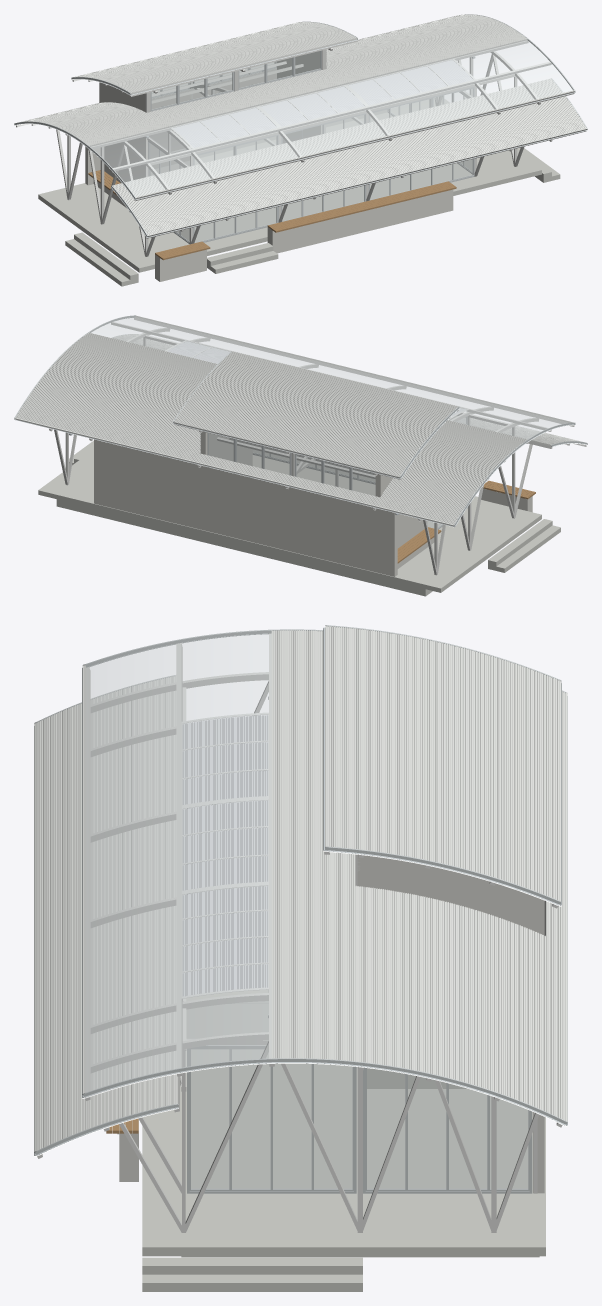
File: solarhouse_R8.glb
The picture shows the model from 3 angles, top to bottom: view 1: azimuth 30°, elevation 25°; view 2: azimuth 150°, elevation 25°; view 3: azimuth 270°, elevation 25°; orthographic projection. The views are drawn at different scales.
Visible parts, largest first — view 1: 主屋盖_连续玻璃整体, 下挑檐_曲面覆层, 主屋盖_顺檩条无缝分带, 平台_14280x6200_顶标高450, 高窗屋盖_连续曲面, 南侧长座凳_实体基座, 高窗西侧实体墙, 檩条002_2, 北后墙_高窗下实体, 南侧连续横梁_Z3.55, 南侧短座凳_实体基座, 高窗东侧室内隔墙 (+34 smaller); view 2: 主屋盖_顺檩条无缝分带, 高窗屋盖_连续曲面, 北后墙_高窗下实体, 平台_14280x6200_顶标高450, 主屋盖_连续玻璃整体, 北后墙_东侧会谈区, 平台基础_按DWG剖面, 檩条002_1, 下挑檐_曲面覆层, 高窗东侧室内隔墙, 高窗西侧实体墙, 西入口踏步2_踏步300_踢面150 (+14 smaller); view 3: 主屋盖_连续玻璃整体, 主屋盖_顺檩条无缝分带, 平台_14280x6200_顶标高450, 下挑檐_曲面覆层, 高窗屋盖_连续曲面, 高窗东侧室内隔墙, 东立面_折叠门1_2600x2500_扇2_玻璃, 东立面_折叠门1_2600x2500_扇1_玻璃, 东立面_折叠门1_2600x2500_扇3_玻璃, 东立面_折叠门1_2600x2500_扇4_玻璃, 东立面_折叠门2_2600x2500_扇1_玻璃, 东入口踏步1_踏步300_踢面150 (+32 smaller).
Part boxes in pixels (left/top/right/bottom): 主屋盖_连续玻璃整体: left=90, top=39, right=573, bottom=196; 下挑檐_曲面覆层: left=112, top=78, right=586, bottom=236; 主屋盖_顺檩条无缝分带: left=18, top=14, right=574, bottom=198; 平台_14280x6200_顶标高450: left=38, top=98, right=541, bottom=272; 高窗屋盖_连续曲面: left=73, top=21, right=357, bottom=94; 南侧长座凳_实体基座: left=267, top=189, right=453, bottom=253; 高窗西侧实体墙: left=99, top=82, right=150, bottom=183; 檩条002_2: left=111, top=61, right=551, bottom=171; 北后墙_高窗下实体: left=85, top=69, right=276, bottom=185; 南侧连续横梁_Z3.55: left=149, top=74, right=515, bottom=165; 南侧短座凳_实体基座: left=155, top=249, right=206, bottom=281; 高窗东侧室内隔墙: left=274, top=51, right=325, bottom=143; 主屋盖_顺檩条无缝分带: left=14, top=315, right=573, bottom=526; 高窗屋盖_连续曲面: left=173, top=351, right=458, bottom=478; 北后墙_高窗下实体: left=200, top=466, right=397, bottom=576; 平台_14280x6200_顶标高450: left=38, top=449, right=541, bottom=592; 主屋盖_连续玻璃整体: left=90, top=316, right=572, bottom=439; 北后墙_东侧会谈区: left=94, top=439, right=200, bottom=529; 平台基础_按DWG剖面: left=56, top=499, right=432, bottom=596; 檩条002_1: left=134, top=317, right=574, bottom=426; 下挑檐_曲面覆层: left=112, top=334, right=582, bottom=446; 高窗东侧室内隔墙: left=200, top=431, right=252, bottom=465; 高窗西侧实体墙: left=375, top=474, right=427, bottom=548; 西入口踏步2_踏步300_踢面150: left=488, top=519, right=552, bottom=570; 主屋盖_连续玻璃整体: left=85, top=630, right=271, bottom=1092; 主屋盖_顺檩条无缝分带: left=82, top=629, right=567, bottom=1121; 平台_14280x6200_顶标高450: left=142, top=890, right=545, bottom=1256; 下挑檐_曲面覆层: left=34, top=675, right=178, bottom=1151; 高窗屋盖_连续曲面: left=325, top=625, right=561, bottom=901; 高窗东侧室内隔墙: left=357, top=855, right=544, bottom=1088; 东立面_折叠门1_2600x2500_扇2_玻璃: left=232, top=1049, right=270, bottom=1188; 东立面_折叠门1_2600x2500_扇1_玻璃: left=191, top=1049, right=228, bottom=1188; 东立面_折叠门1_2600x2500_扇3_玻璃: left=273, top=1064, right=311, bottom=1188; 东立面_折叠门1_2600x2500_扇4_玻璃: left=314, top=1064, right=352, bottom=1188; 东立面_折叠门2_2600x2500_扇1_玻璃: left=367, top=1068, right=404, bottom=1188; 东入口踏步1_踏步300_踢面150: left=142, top=1274, right=362, bottom=1291.
Bounding box in the file's own units: 15.66 × 4.94 × 8.2.
